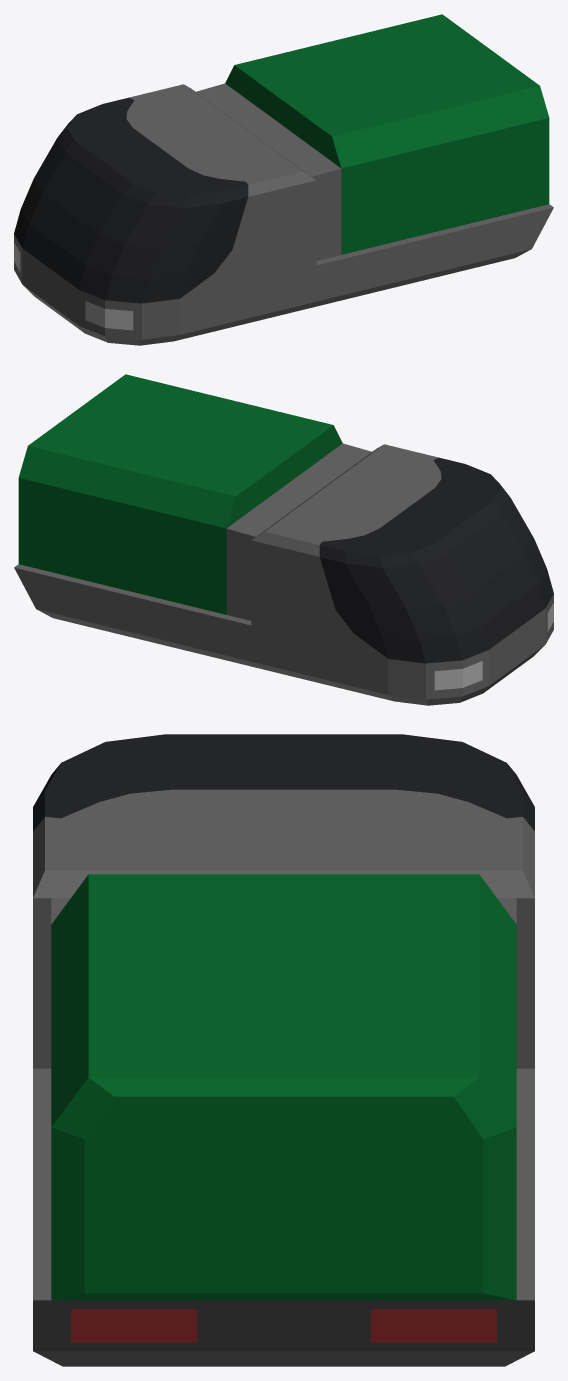
Rendered from Car-8.fbx.
3 views of the same model, one above another, from view 1: azimuth 30°, elevation 25°; view 2: azimuth 150°, elevation 25°; view 3: azimuth 270°, elevation 25° (orthographic). The views are drawn at different scales.
Parts seen in each view (by area): view 1: TrashTruck; view 2: TrashTruck; view 3: TrashTruck.
Boxes of the visible parts, box(x1,y1,x2,y2) form: TrashTruck: box(14, 14, 553, 345); TrashTruck: box(14, 374, 553, 705); TrashTruck: box(33, 734, 534, 1366).
Bounding box in the file's own units: 533 × 182 × 259.
